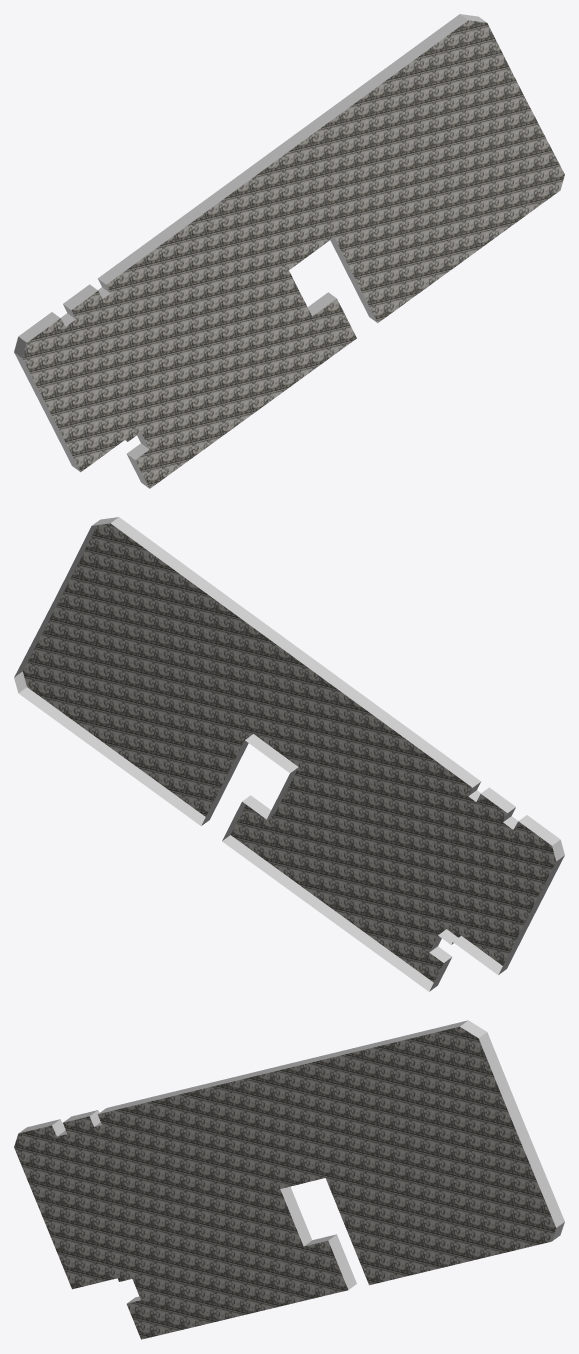
The model's file is geospecific_176.obj.
3 renders of one model, top to bottom at view 1: azimuth 30°, elevation 25°; view 2: azimuth 150°, elevation 25°; view 3: azimuth 330°, elevation 25°, orthographic.
Visible parts, largest first — view 1: Building; view 2: Building; view 3: Building.
Boxes of the visible parts, x1=… form: Building: x1=14, y1=14, x2=564, y2=488; Building: x1=14, y1=517, x2=564, y2=991; Building: x1=14, y1=1020, x2=564, y2=1339.
Bounding box in the file's own units: 108 × 74.63 × 3.
